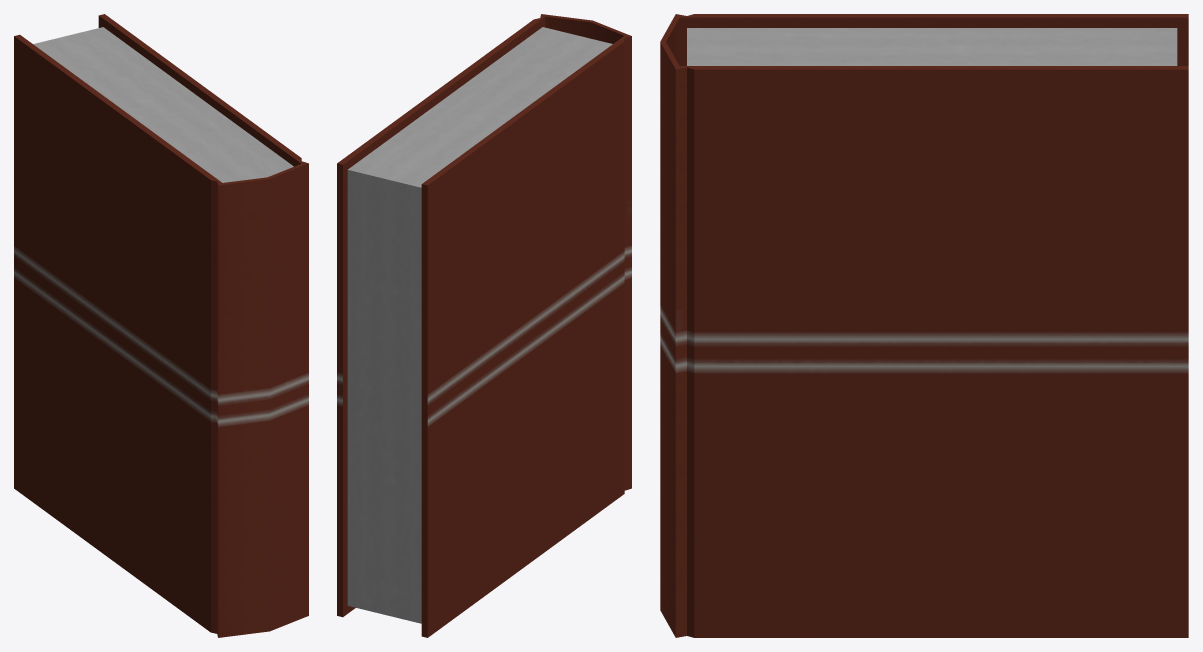
File: Prop_Books_7.fbx
The picture shows the model from 3 angles, left to right: view 1: azimuth 30°, elevation 25°; view 2: azimuth 150°, elevation 25°; view 3: azimuth 270°, elevation 25°; orthographic projection. The views are drawn at different scales.
Parts seen in each view (by area): view 1: Prop_Books_7; view 2: Prop_Books_7; view 3: Prop_Books_7.
Boxes of the visible parts, <box> form: Prop_Books_7: <box>14,14,308,637</box>; Prop_Books_7: <box>337,14,631,637</box>; Prop_Books_7: <box>660,14,1188,637</box>.
Size of the model in its own units: 0.0301 by 0.1436 by 0.121.
